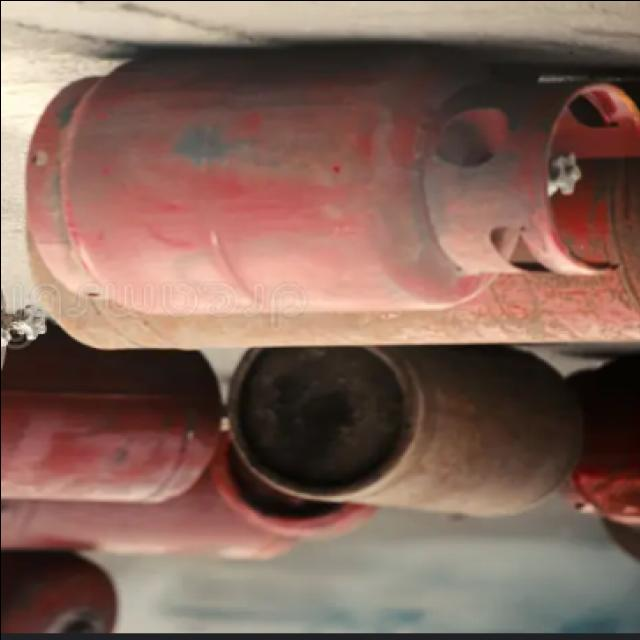cylinder: (26, 43, 637, 314)
